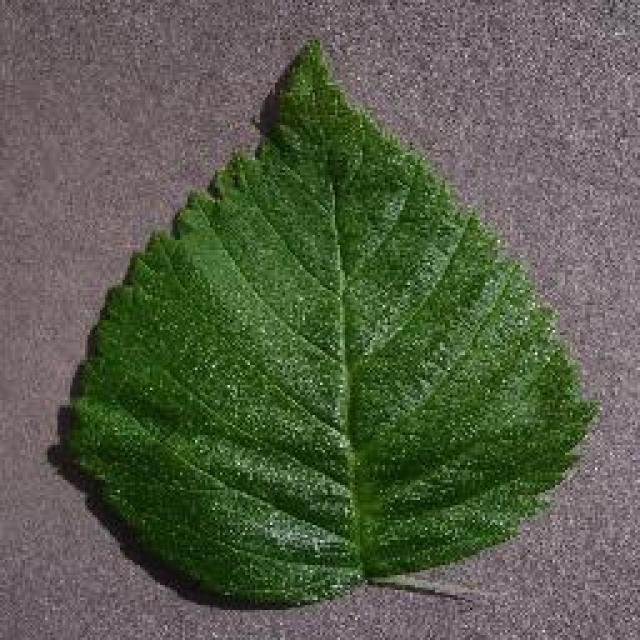Ras_healthy: (96, 119, 544, 585)
